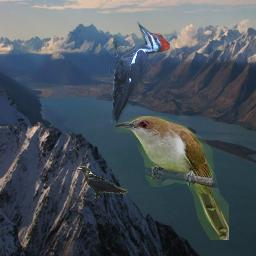Crow: (76, 166, 128, 201)
Cuckoo: (113, 116, 229, 240)
Woodpecker: (109, 20, 170, 127)
